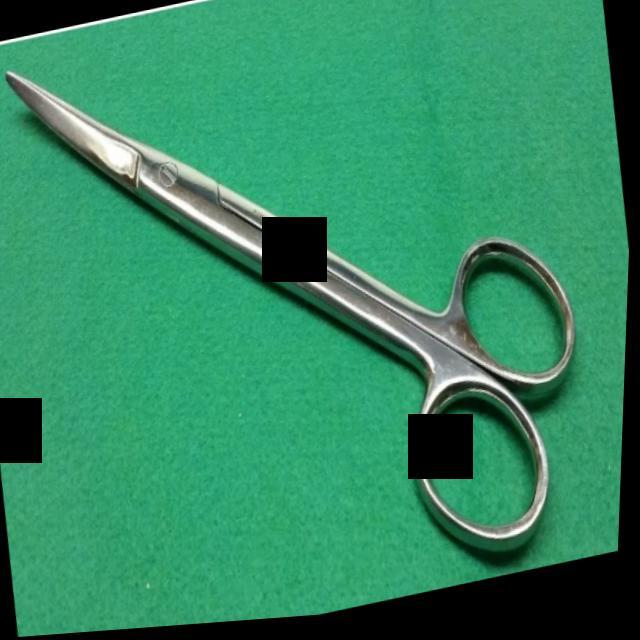Curved Mayo: (0, 0, 623, 640)
